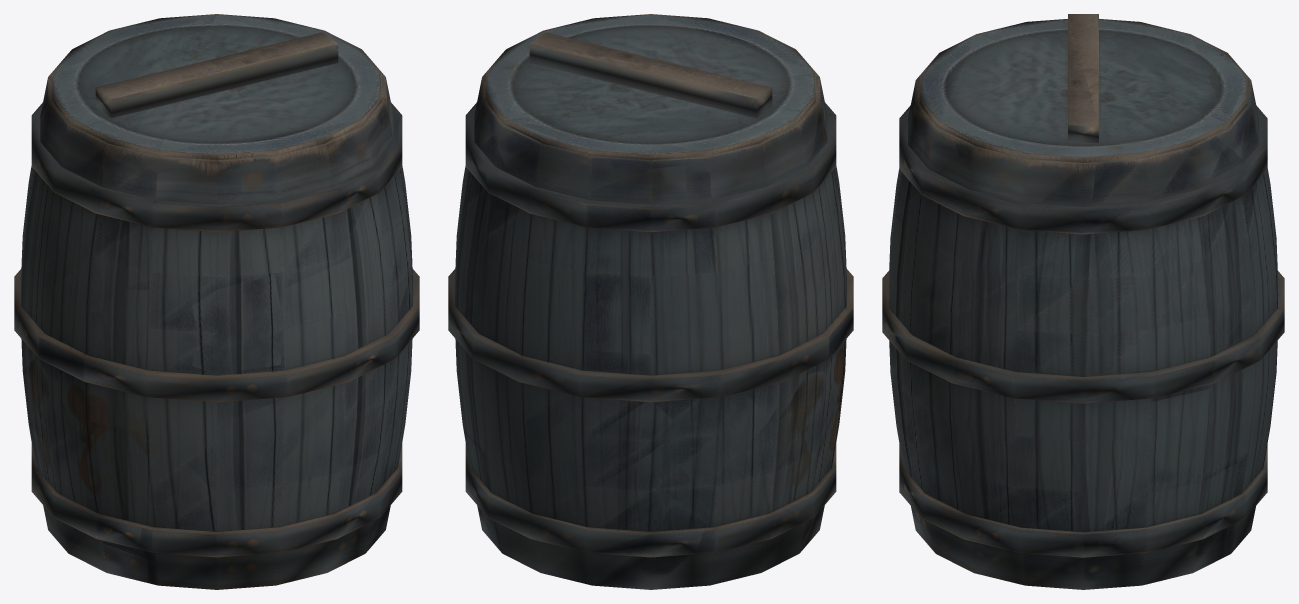
File: barrel_water.glb
3 views of the same model, side by side, from view 1: azimuth 30°, elevation 25°; view 2: azimuth 150°, elevation 25°; view 3: azimuth 270°, elevation 25° (orthographic).
Parts seen in each view (by area): view 1: barrel_water; view 2: barrel_water; view 3: barrel_water.
Boxes of the visible parts, <box> form: barrel_water: <box>14,14,419,589</box>; barrel_water: <box>448,14,853,589</box>; barrel_water: <box>882,14,1284,589</box>.
Bounding box in the file's own units: 0.784 × 0.95 × 0.7721.
Materials: 1 (1 with a texture image).
